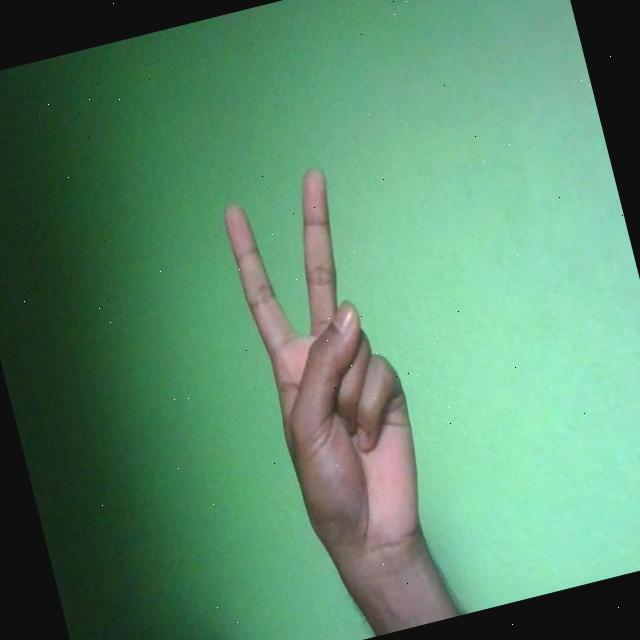Fist: (216, 160, 442, 582)
